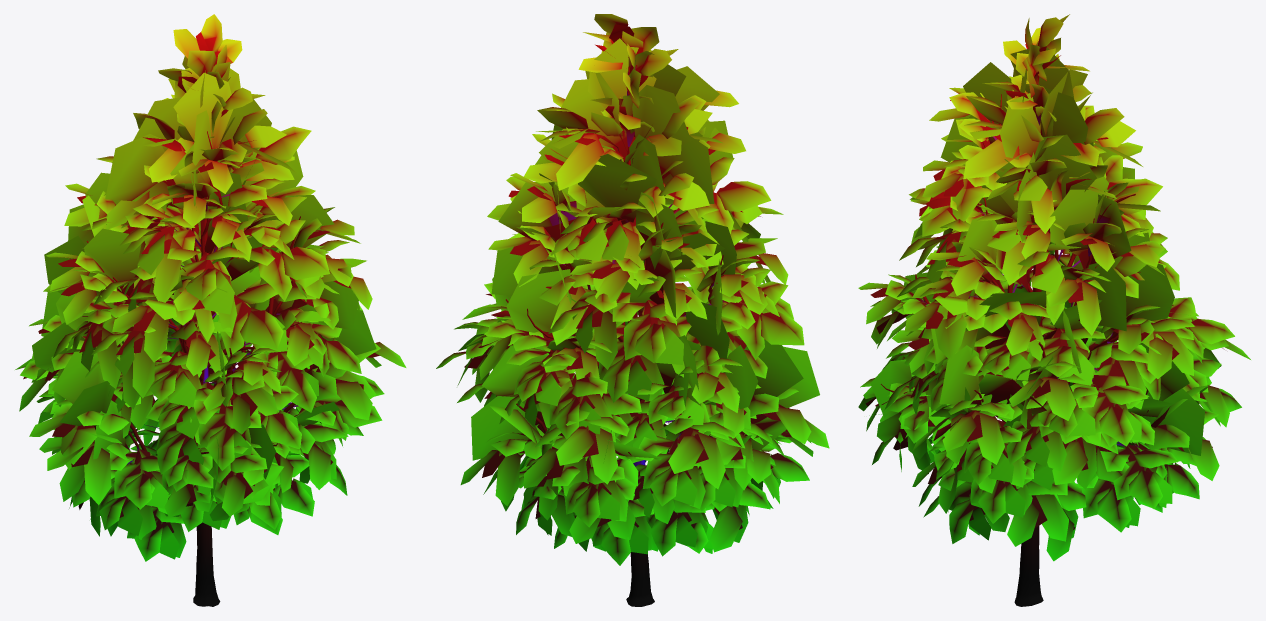
The model's file is Sweetgum_Btree_var1_V2.fbx.
3 renders of one model, left to right at view 1: azimuth 30°, elevation 25°; view 2: azimuth 150°, elevation 25°; view 3: azimuth 270°, elevation 25°, orthographic. The views are drawn at different scales.
Parts seen in each view (by area): view 1: Sweetgum_Btree_var1_LOD0; view 2: Sweetgum_Btree_var1_LOD0; view 3: Sweetgum_Btree_var1_LOD0.
Boxes of the visible parts, x1,y1,x2,y2 form: Sweetgum_Btree_var1_LOD0: (15,14,406,606); Sweetgum_Btree_var1_LOD0: (436,14,829,606); Sweetgum_Btree_var1_LOD0: (858,14,1250,606).
Size of what is drawn, in the model's own units: 10.53 by 10.4 by 17.24.
